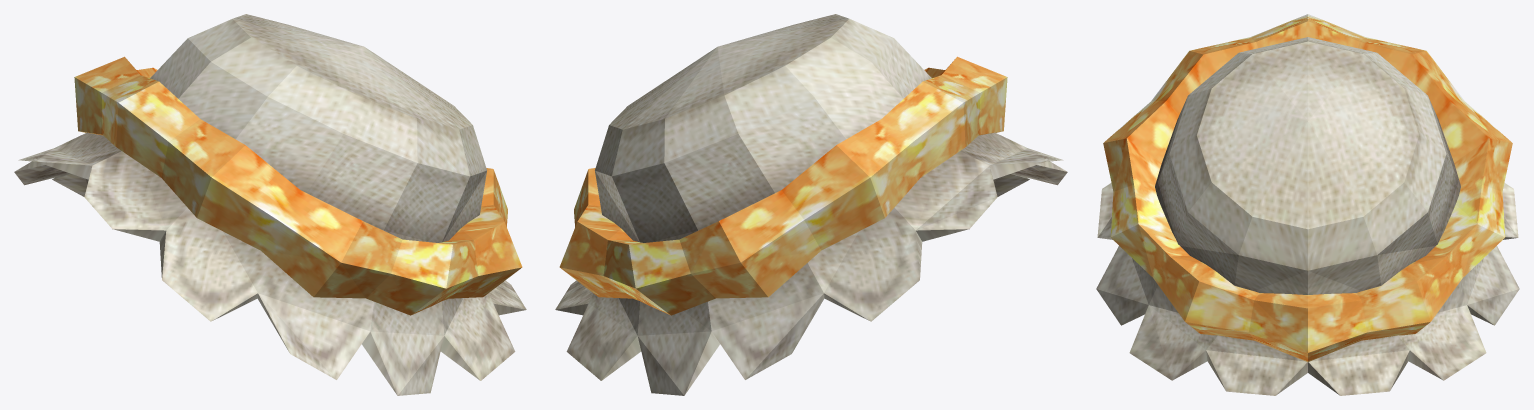
The model's file is Sheep_summerHat.obj.
The picture shows the model from 3 angles, left to right: view 1: azimuth 30°, elevation 25°; view 2: azimuth 150°, elevation 25°; view 3: azimuth 270°, elevation 25°; orthographic projection. The views are drawn at different scales.
Visible parts, largest first — view 1: Sheep_summerHat_tri; view 2: Sheep_summerHat_tri; view 3: Sheep_summerHat_tri.
Part boxes in pixels (x1=…): Sheep_summerHat_tri: x1=14, y1=14, x2=526, y2=395; Sheep_summerHat_tri: x1=555, y1=14, x2=1067, y2=395; Sheep_summerHat_tri: x1=1096, y1=14, x2=1519, y2=395.
Bounding box in the file's own units: 0.3889 × 0.2503 × 0.3684.
Materials: 1 (1 with a texture image).
